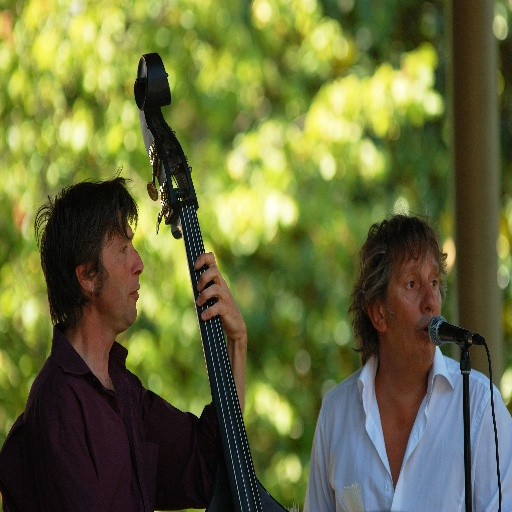hand: (193, 251, 247, 342)
